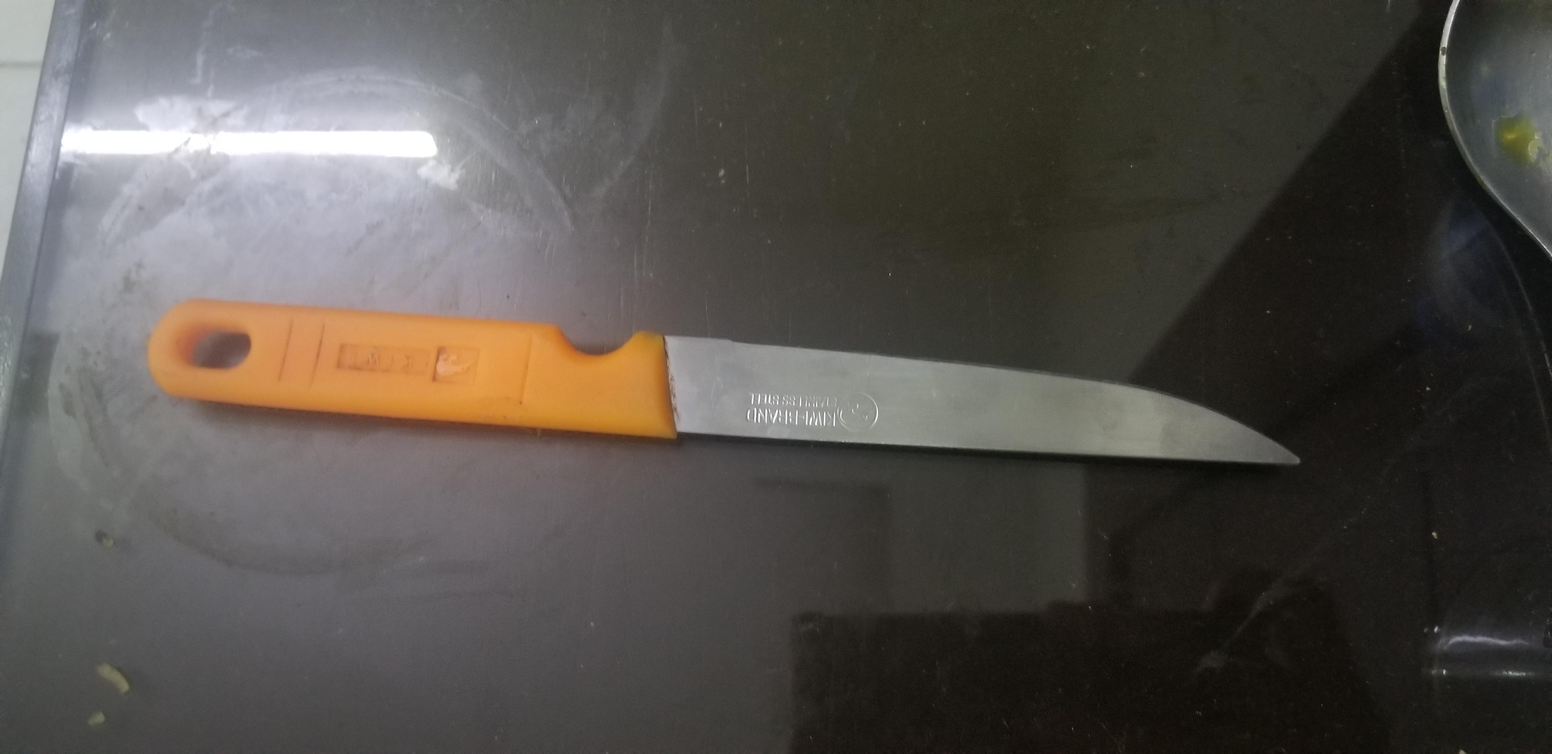knives: (589, 62, 1007, 640)
